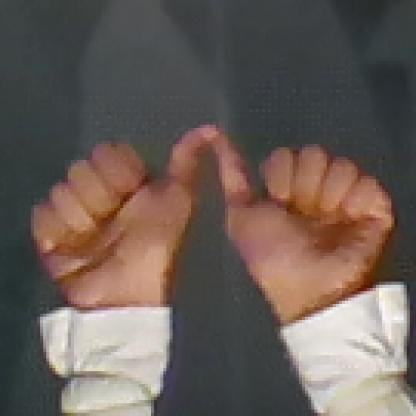A: (21, 113, 399, 298)
